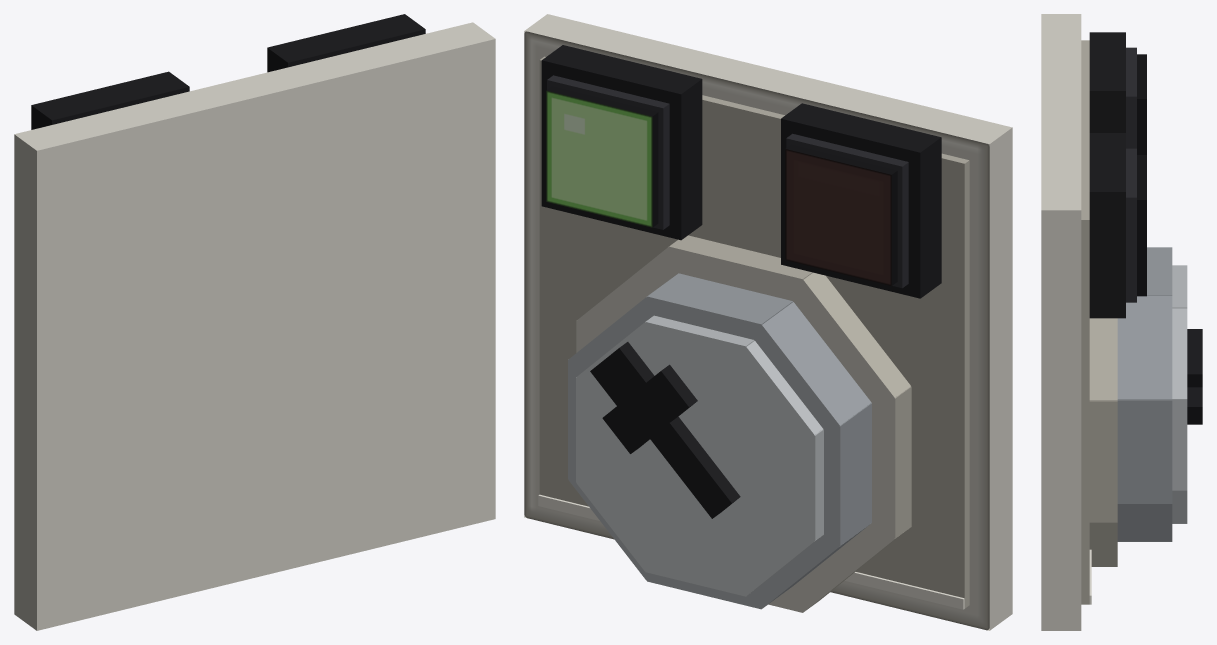
Rendered from knob_switch_open.obj.
The picture shows the model from 3 angles, left to right: view 1: azimuth 30°, elevation 25°; view 2: azimuth 150°, elevation 25°; view 3: azimuth 270°, elevation 25°; orthographic projection. The views are drawn at different scales.
Visible parts, largest first — view 1: Panel, LampRed, LampGreen; view 2: Panel, Knob, LampGreen, LampRed; view 3: Panel, Knob, LampGreen, LampRed.
Part boxes in pixels (x1=…): Panel: x1=14, y1=22, x2=495, y2=630; LampRed: x1=31, y1=71, x2=189, y2=129; LampGreen: x1=267, y1=14, x2=425, y2=72; Panel: x1=524, y1=14, x2=1012, y2=630; Knob: x1=568, y1=235, x2=911, y2=612; LampGreen: x1=541, y1=45, x2=702, y2=240; LampRed: x1=781, y1=103, x2=941, y2=298; Panel: x1=1041, y1=14, x2=1091, y2=630; Knob: x1=1089, y1=247, x2=1202, y2=566; LampGreen: x1=1089, y1=133, x2=1146, y2=318; LampRed: x1=1089, y1=32, x2=1146, y2=154.
Bounding box in the file's own units: 0.875 × 0.8875 × 0.3038.
Materials: 1 (1 with a texture image).
